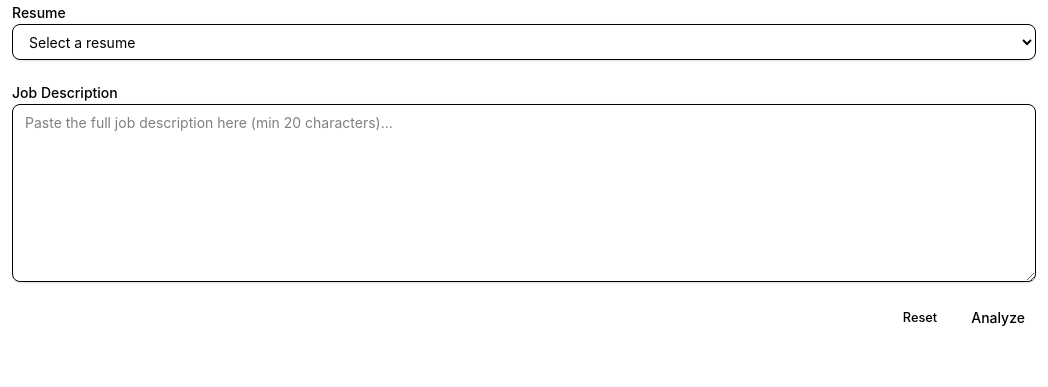
Test case: AnalyzeForm › shows validation error for empty resume selection on submit
The image size is (1048, 387).
# Leave resume unselected, type short job description
Step 1. Type "short" into the text box labelled "Job Description" → {"x": 524, "y": 193}, box [12, 104, 1036, 282]
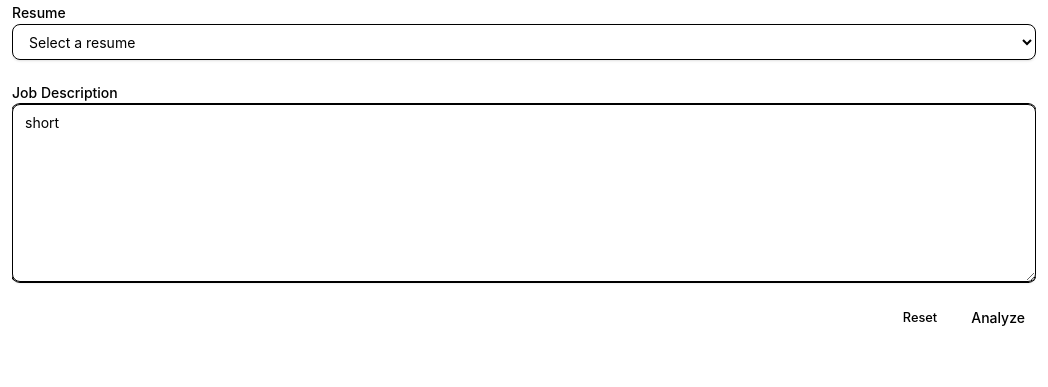
Step 2. Click the button "Analyze" → {"x": 998, "y": 318}, box [960, 302, 1036, 334]
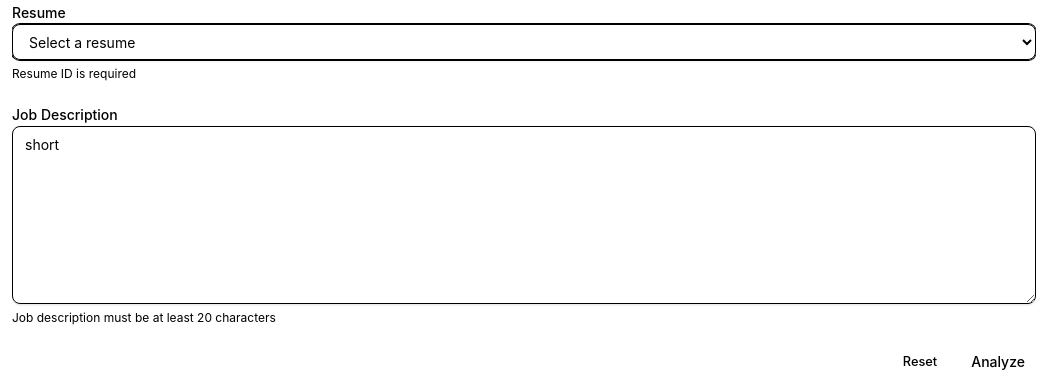
Result: the message "Resume ID is required" is shown at [12, 66, 136, 81]
